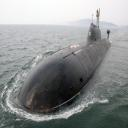submarine: (18, 1, 114, 115)
